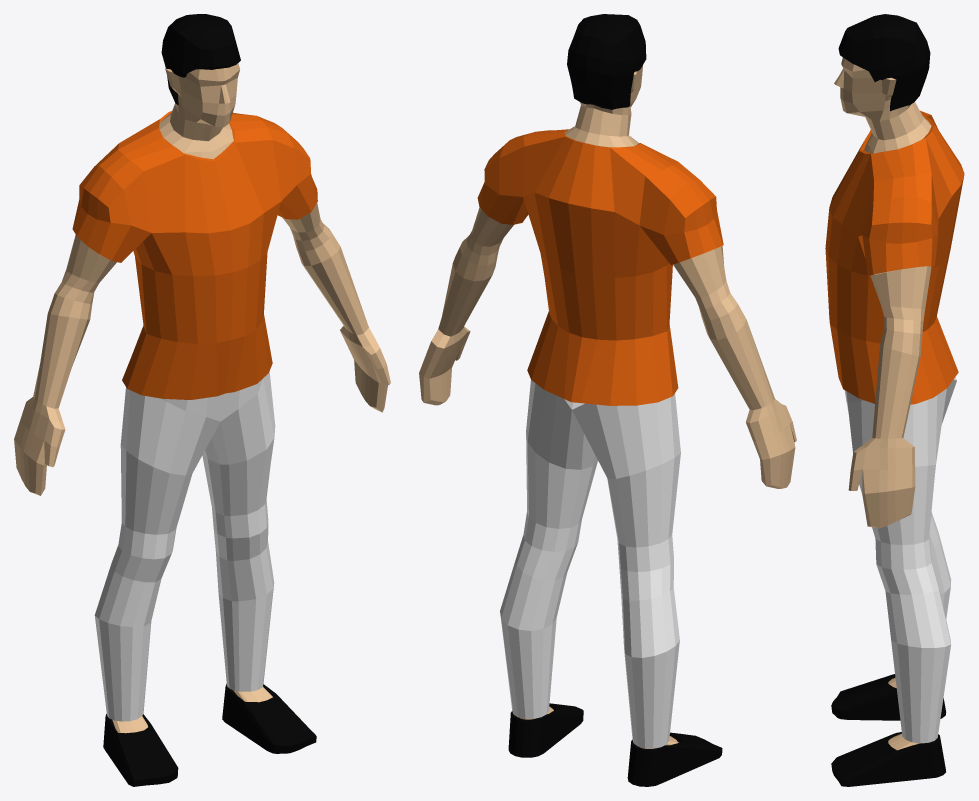
Rendered from NPC.fbx.
3 views of the same model, side by side, from view 1: azimuth 30°, elevation 25°; view 2: azimuth 150°, elevation 25°; view 3: azimuth 270°, elevation 25° (orthographic).
Parts seen in each view (by area): view 1: Human full; view 2: Human full; view 3: Human full.
Part boxes in pixels (left/top/right/bottom): Human full: left=14, top=14, right=390, bottom=786; Human full: left=419, top=14, right=796, bottom=786; Human full: left=825, top=14, right=964, bottom=786.
Size of the model in its own units: 102 by 199 by 34.8.
